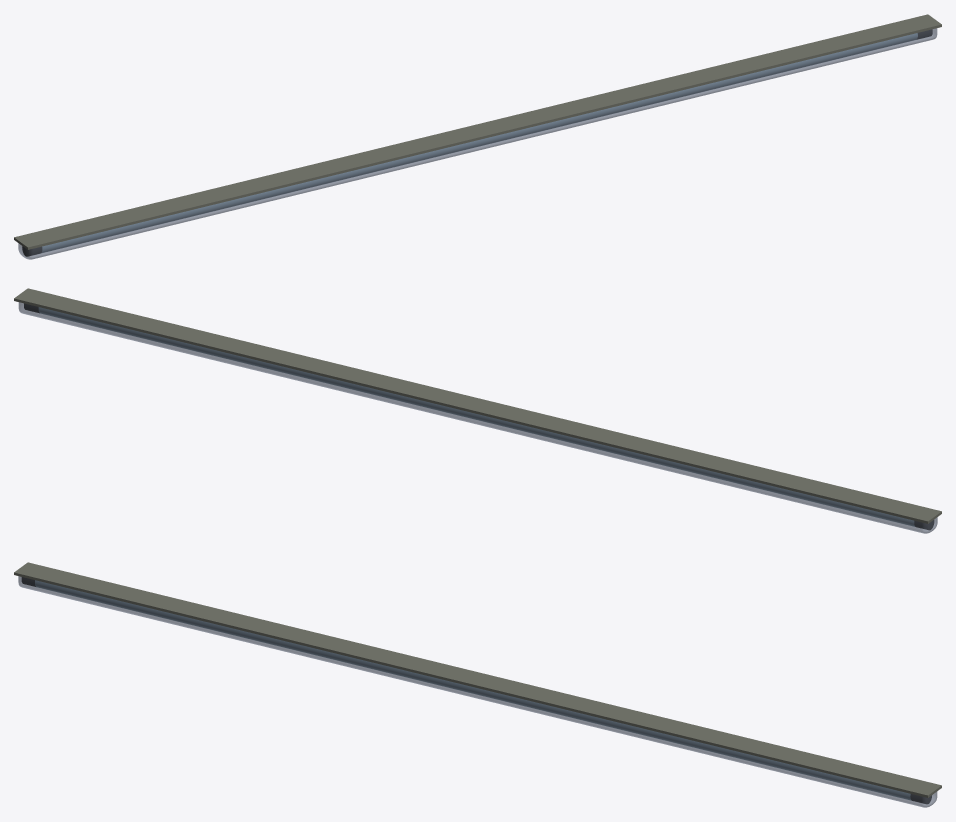
Rendered from Lamp_03.FBX.
3 views of the same model, one above another, from view 1: azimuth 30°, elevation 25°; view 2: azimuth 150°, elevation 25°; view 3: azimuth 330°, elevation 25° (orthographic).
Parts seen in each view (by area): view 1: Lamp_03; view 2: Lamp_03; view 3: Lamp_03.
Boxes of the visible parts, box(x1,y1,x2,y2) form: Lamp_03: box(14, 14, 941, 259); Lamp_03: box(14, 288, 941, 533); Lamp_03: box(14, 562, 941, 807).
Size of the model in its own units: 150 by 2.64 by 3.94.
